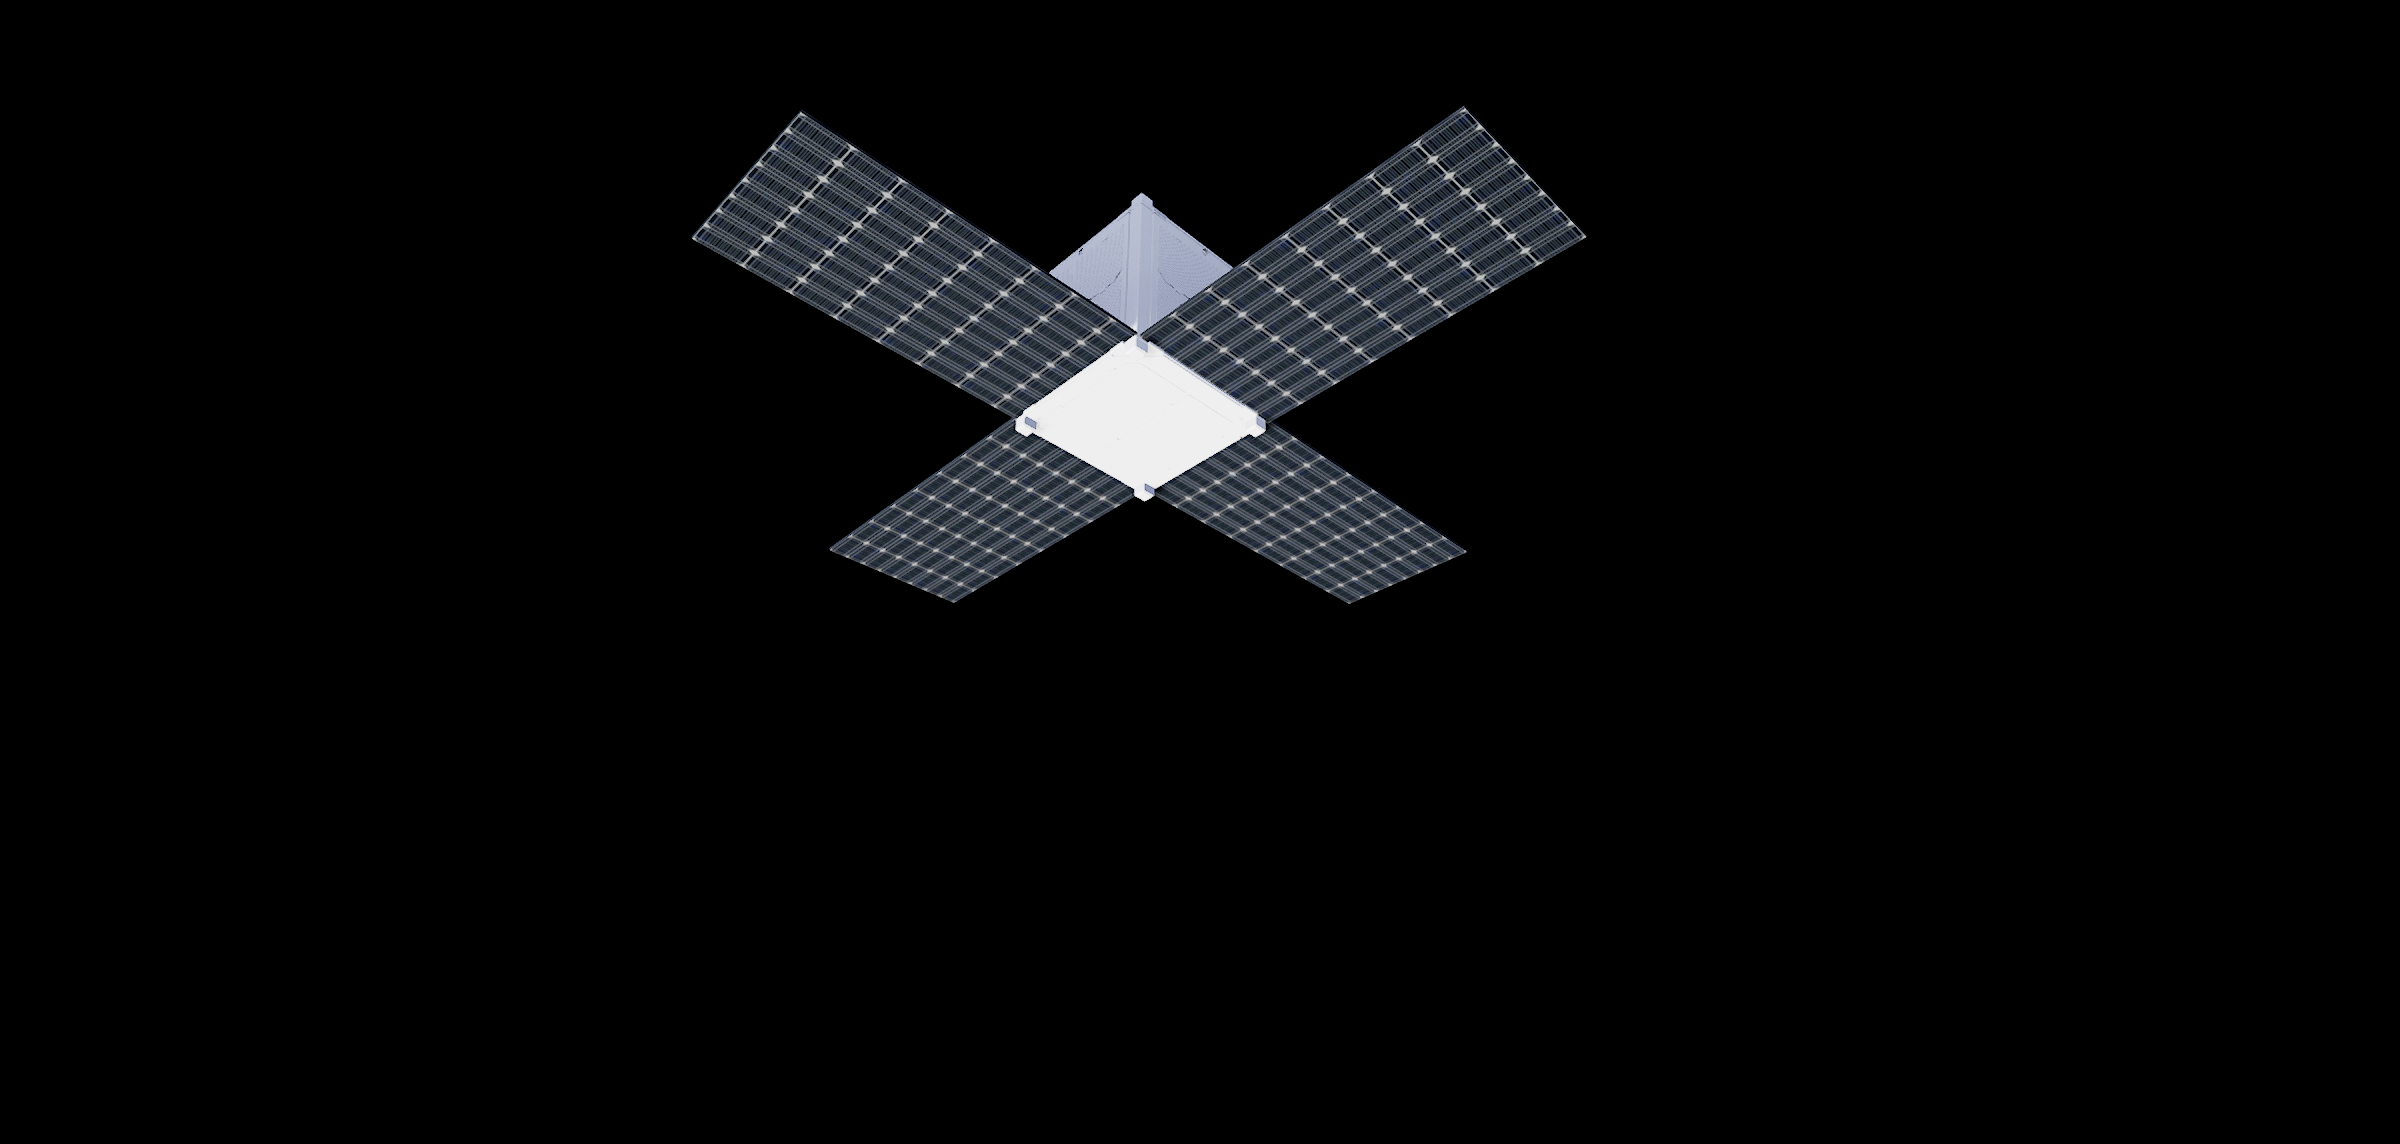satellite: (678, 47, 1606, 666)
